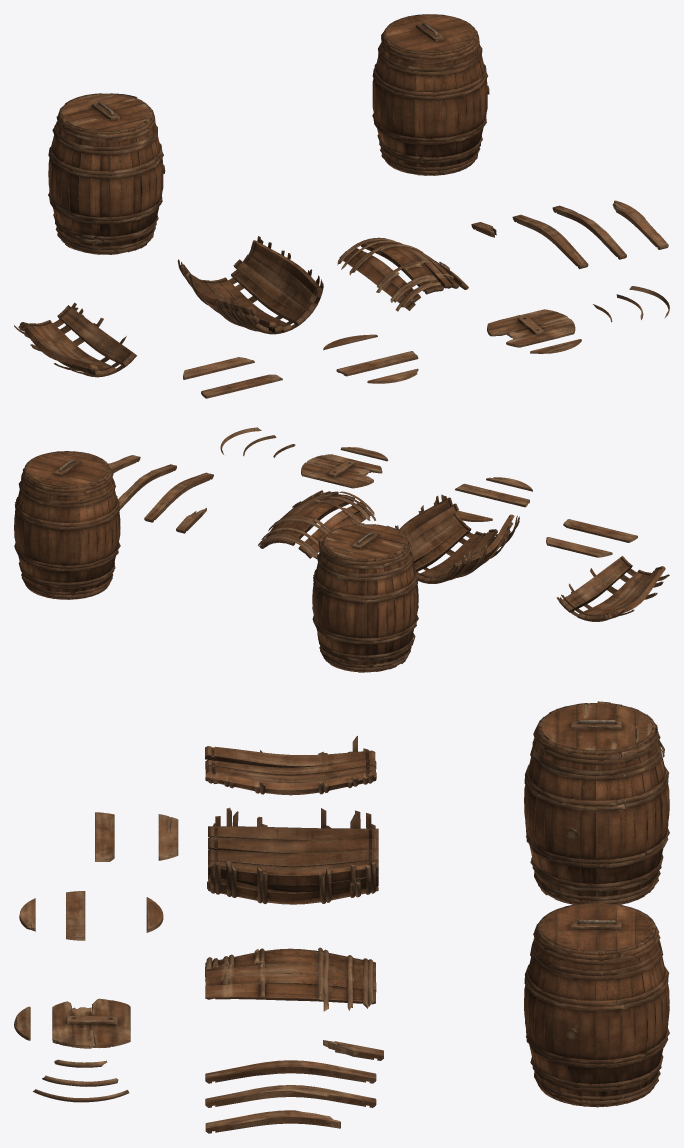
The model's file is wooden_barrels_01.glb.
3 views of the same model, one above another, from view 1: azimuth 30°, elevation 25°; view 2: azimuth 150°, elevation 25°; view 3: azimuth 270°, elevation 25° (orthographic). The views are drawn at different scales.
Visible parts, largest first — view 1: wooden_barrels_01_barrel01, wooden_barrels_01_barrel02, wooden_barrels_01_piece01, wooden_barrels_01_piece03, wooden_barrels_01_piece02, wooden_barrels_01_piece08, wooden_barrels_01_piece04, wooden_barrels_01_piece05, wooden_barrels_01_piece06, wooden_barrels_01_piece11, wooden_barrels_01_piece14, wooden_barrels_01_piece13; view 2: wooden_barrels_01_barrel02, wooden_barrels_01_barrel01, wooden_barrels_01_piece01, wooden_barrels_01_piece03, wooden_barrels_01_piece02, wooden_barrels_01_piece08, wooden_barrels_01_piece04, wooden_barrels_01_piece14, wooden_barrels_01_piece11, wooden_barrels_01_piece05, wooden_barrels_01_piece13; view 3: wooden_barrels_01_barrel01, wooden_barrels_01_barrel02, wooden_barrels_01_piece01, wooden_barrels_01_piece03, wooden_barrels_01_piece02, wooden_barrels_01_piece08, wooden_barrels_01_piece04, wooden_barrels_01_piece05, wooden_barrels_01_piece06, wooden_barrels_01_piece11, wooden_barrels_01_piece14, wooden_barrels_01_piece13 (+1 smaller).
Part boxes in pixels (x1,y1,x2,y2): wooden_barrels_01_barrel01: [372, 14, 489, 175]; wooden_barrels_01_barrel02: [48, 93, 165, 254]; wooden_barrels_01_piece01: [177, 236, 323, 334]; wooden_barrels_01_piece03: [337, 237, 468, 311]; wooden_barrels_01_piece02: [14, 302, 136, 377]; wooden_barrels_01_piece08: [487, 309, 575, 347]; wooden_barrels_01_piece04: [512, 214, 588, 268]; wooden_barrels_01_piece05: [552, 205, 626, 259]; wooden_barrels_01_piece06: [612, 200, 668, 249]; wooden_barrels_01_piece11: [336, 351, 418, 376]; wooden_barrels_01_piece14: [201, 374, 282, 398]; wooden_barrels_01_piece13: [183, 357, 254, 379]; wooden_barrels_01_barrel02: [312, 523, 418, 672]; wooden_barrels_01_barrel01: [14, 451, 120, 599]; wooden_barrels_01_piece01: [395, 494, 519, 583]; wooden_barrels_01_piece03: [258, 490, 375, 558]; wooden_barrels_01_piece02: [556, 556, 669, 621]; wooden_barrels_01_piece08: [301, 454, 382, 488]; wooden_barrels_01_piece04: [144, 472, 213, 522]; wooden_barrels_01_piece14: [563, 519, 637, 542]; wooden_barrels_01_piece11: [455, 483, 529, 507]; wooden_barrels_01_piece05: [118, 464, 176, 509]; wooden_barrels_01_piece13: [546, 537, 612, 557]; wooden_barrels_01_barrel01: [524, 902, 669, 1107]; wooden_barrels_01_barrel02: [524, 701, 669, 904]; wooden_barrels_01_piece01: [207, 807, 378, 904]; wooden_barrels_01_piece03: [205, 947, 376, 1011]; wooden_barrels_01_piece02: [205, 736, 376, 795]; wooden_barrels_01_piece08: [52, 998, 130, 1048]; wooden_barrels_01_piece04: [205, 1060, 376, 1083]; wooden_barrels_01_piece05: [205, 1085, 376, 1107]; wooden_barrels_01_piece06: [205, 1110, 340, 1133]; wooden_barrels_01_piece11: [66, 891, 85, 940]; wooden_barrels_01_piece14: [95, 812, 114, 861]; wooden_barrels_01_piece13: [158, 814, 178, 860].
Bounding box in the file's own units: 4.44 × 0.9545 × 3.35.
Materials: 3 (3 with a texture image).
